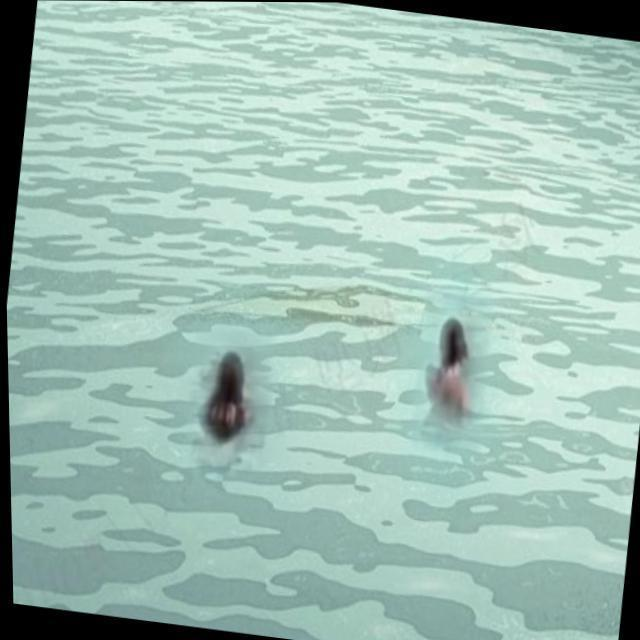swimming: (385, 308, 494, 457), (196, 328, 271, 457)
